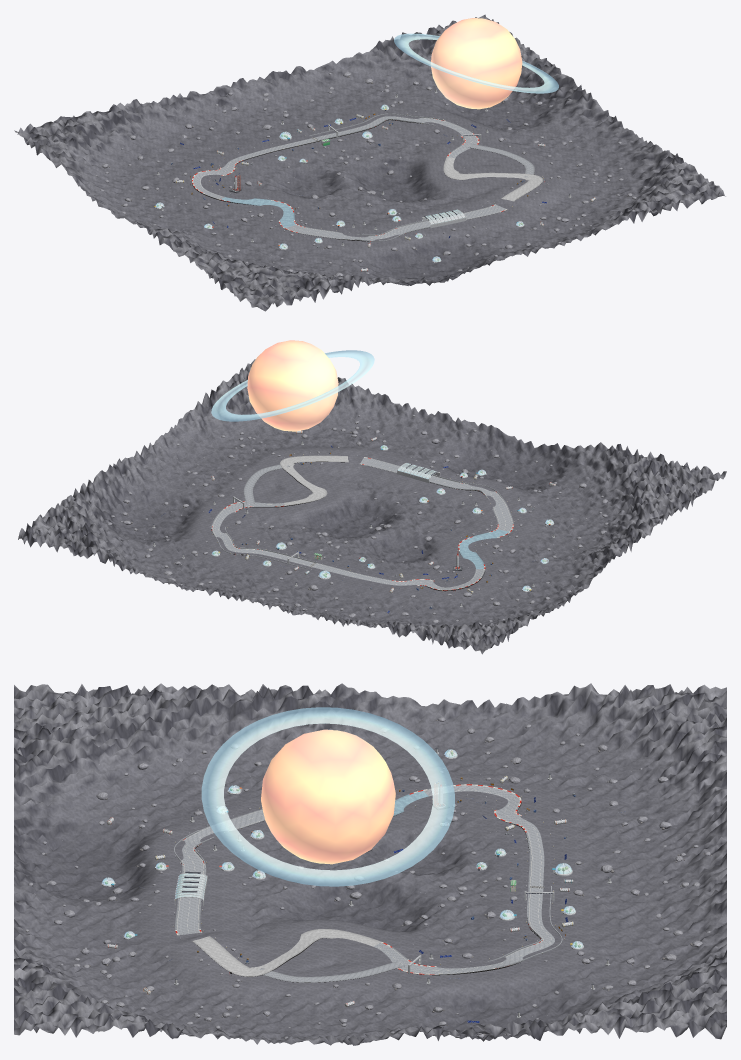
The model's file is estacao-lunar.glb.
3 renders of one model, top to bottom at view 1: azimuth 30°, elevation 25°; view 2: azimuth 150°, elevation 25°; view 3: azimuth 270°, elevation 25°, orthographic. The views are drawn at different scales.
Visible parts, largest first — view 1: sec4_props, terrain1, terrain4, terrain2, terrain3, terrain0, terrain26, terrain15, terrain17, terrain23, terrain27, terrain11 (+32 smaller); view 2: sec4_props, terrain17, terrain23, terrain24, terrain25, terrain21, terrain11, terrain15, terrain12, terrain14, terrain27, terrain5 (+31 smaller); view 3: sec4_props, terrain25, terrain6, terrain18, terrain0, terrain24, terrain1, terrain10, terrain12, terrain2, terrain3, terrain14 (+46 smaller).
Boxes of the visible parts, box(x1,y1,x2,y2) form: sec4_props: box(394, 18, 558, 156); terrain1: box(98, 95, 218, 165); terrain4: box(333, 32, 440, 105); terrain2: box(173, 78, 297, 146); terrain3: box(253, 60, 377, 125); terrain0: box(14, 111, 139, 172); terrain26: box(357, 226, 480, 285); terrain15: box(345, 141, 469, 201); terrain17: box(506, 85, 623, 153); terrain23: box(550, 127, 668, 189); terrain27: box(439, 204, 560, 262); terrain11: box(480, 49, 577, 128); sec4_props: box(211, 340, 374, 480); terrain17: box(106, 442, 224, 514); terrain23: box(153, 401, 268, 471); terrain24: box(590, 461, 715, 520); terrain25: box(510, 459, 631, 516); terrain21: box(305, 454, 422, 520); terrain11: box(60, 470, 178, 539); terrain15: box(259, 490, 384, 545); terrain12: box(498, 547, 622, 596); terrain14: box(339, 514, 463, 565); terrain27: box(351, 422, 475, 470); terrain5: box(18, 503, 130, 558); sec4_props: box(201, 707, 454, 1004); terrain25: box(48, 742, 183, 845); terrain6: box(455, 683, 591, 777); terrain18: box(183, 684, 319, 777); terrain0: box(591, 684, 726, 776); terrain24: box(48, 683, 183, 774); terrain1: box(591, 741, 726, 835); terrain10: box(455, 946, 591, 1017); terrain12: box(319, 683, 455, 776); terrain2: box(591, 807, 726, 892); terrain3: box(591, 870, 726, 949); terrain14: box(319, 832, 455, 905).
Bounding box in the file's own units: 710 × 231 × 630.
Materials: 26 (13 with a texture image).
